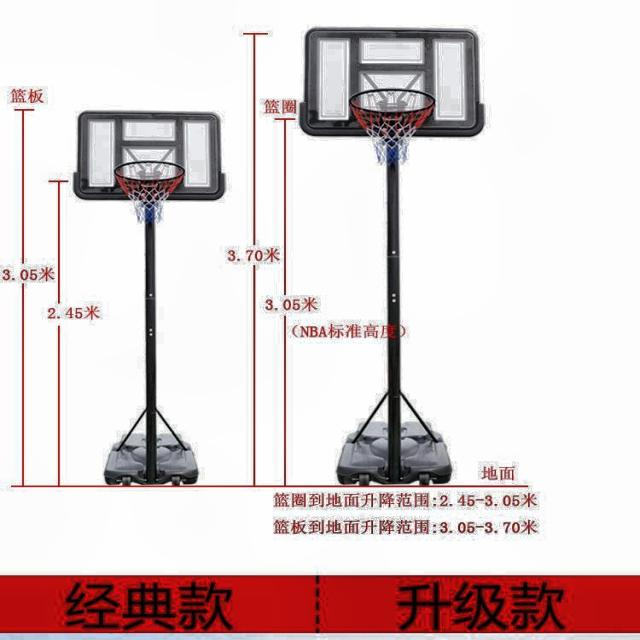rim: (348, 88, 435, 160), (114, 162, 186, 222)
